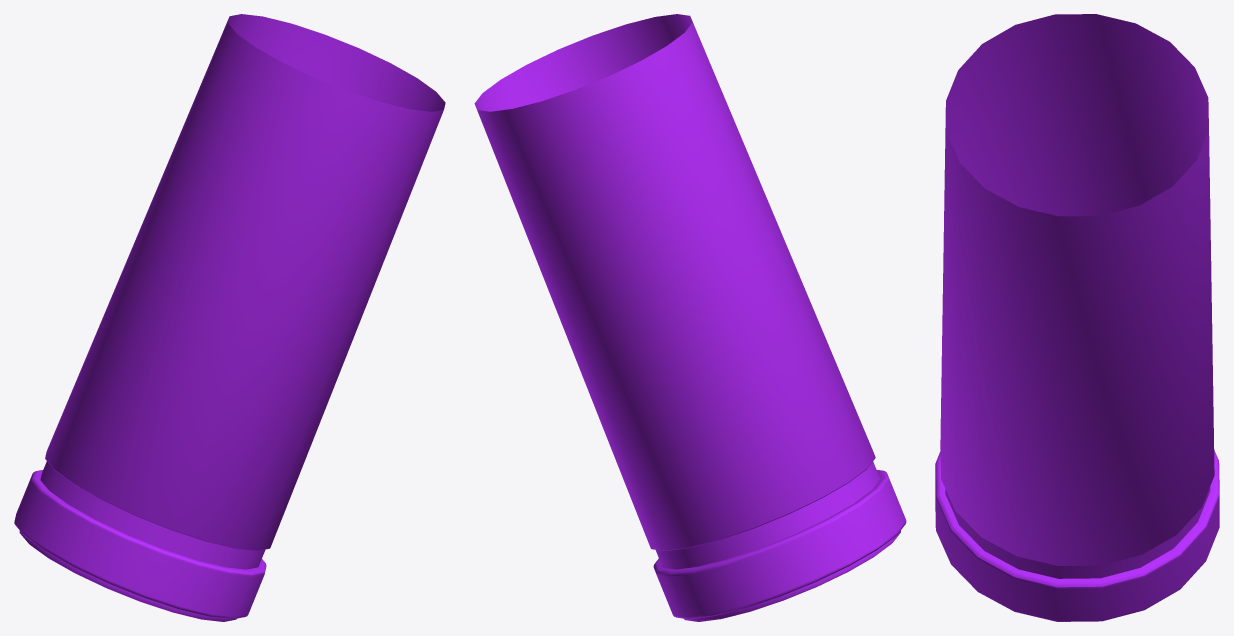
Rendered from Pommel_Yoda.obj.
3 renders of one model, left to right at view 1: azimuth 30°, elevation 25°; view 2: azimuth 150°, elevation 25°; view 3: azimuth 270°, elevation 25°, orthographic. The views are drawn at different scales.
Visible parts, largest first — view 1: Pommel_Yoda Yoda_GRP; view 2: Pommel_Yoda Yoda_GRP; view 3: Pommel_Yoda Yoda_GRP.
Part boxes in pixels (x1,y1,x2,y2): Pommel_Yoda Yoda_GRP: [14, 14, 445, 621]; Pommel_Yoda Yoda_GRP: [474, 14, 906, 621]; Pommel_Yoda Yoda_GRP: [935, 14, 1219, 621].
Size of the model in its own units: 4.61 by 6.13 by 2.55.
